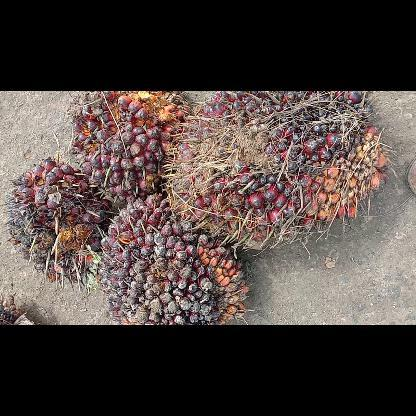Kurang masak: (158, 92, 390, 256), (94, 190, 252, 324)
TBS masak: (5, 154, 115, 290), (69, 91, 189, 197)
